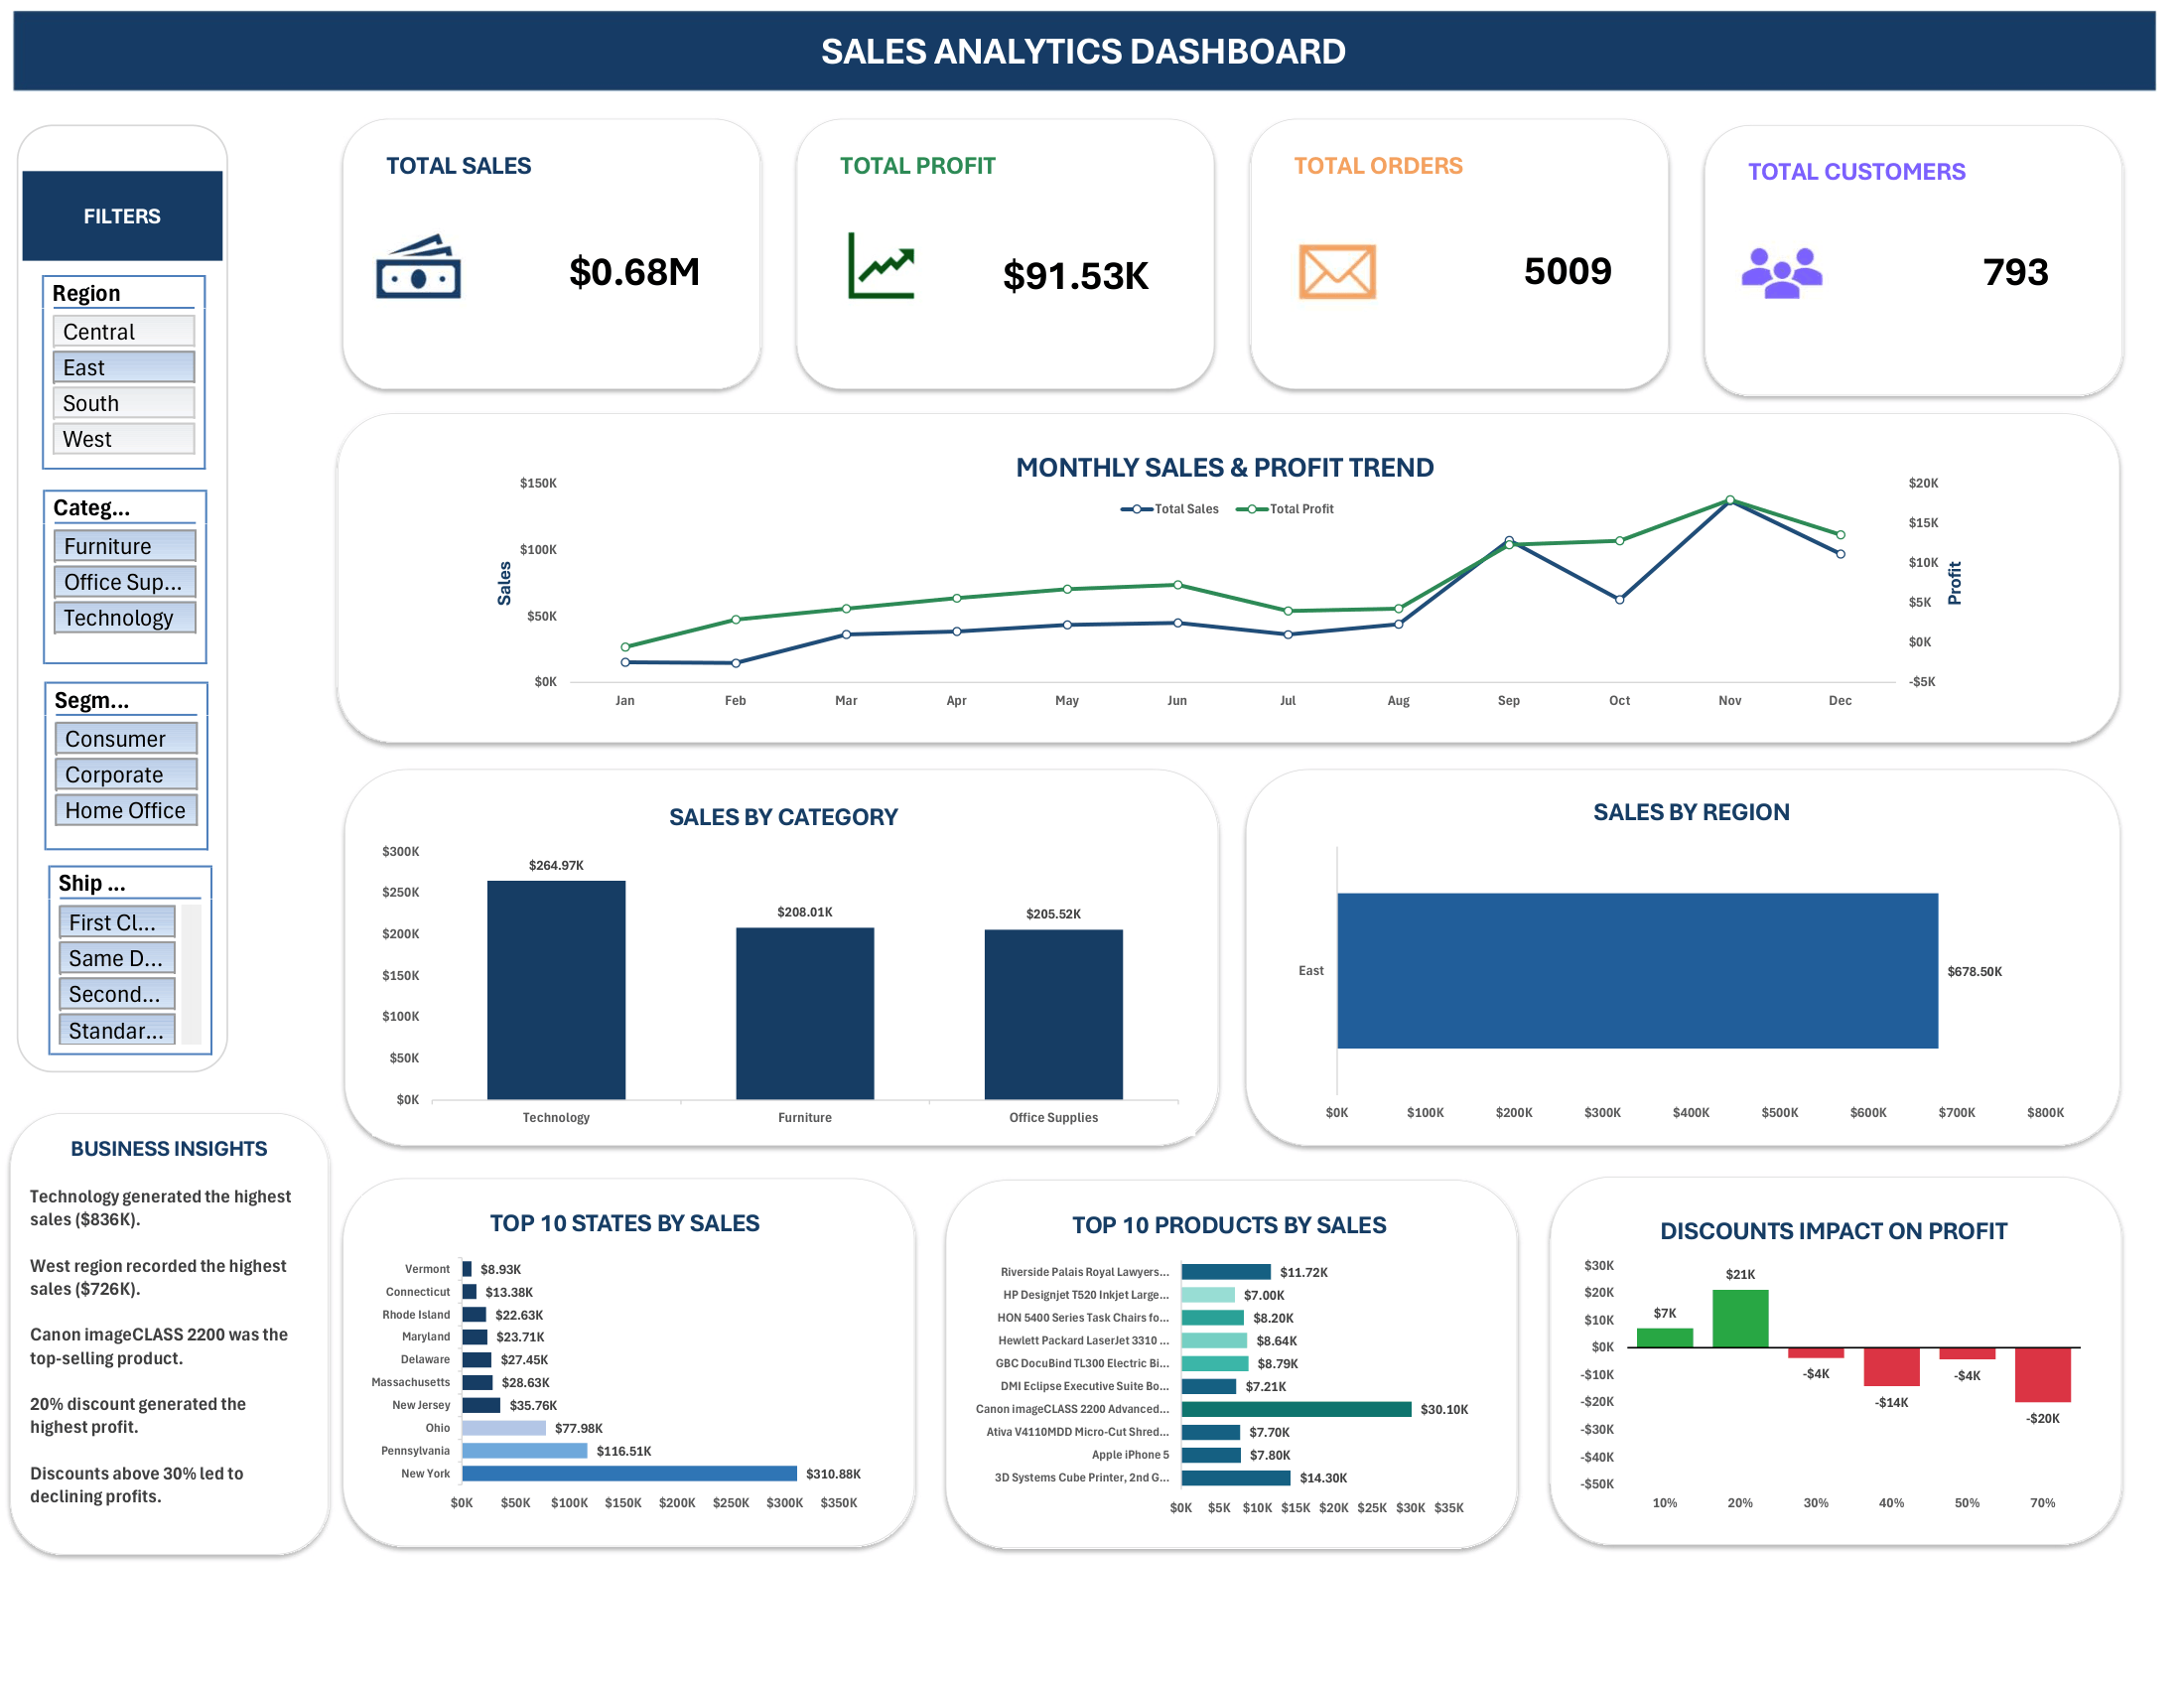

The dashboard page shown, as its layout file describes it:
{"tool":"powerbi","page":{"name":"Page 1","canvas":[1420,964],"ordinal":0},"visuals":[{"type":"shape","box":[0,0,1420.1,60.3],"z":0},{"type":"textbox","box":[447.7,0,627.1,60.3],"z":1000},{"type":"image","box":[395,6,52.8,46.7],"z":2000},{"type":"group","id":"g1","title":"Group 1","box":[186.9,60.3,1233.2,150.8],"z":3000},{"type":"shape","box":[803.5,214.1,616.6,223.1],"z":3000,"group":"g7"},{"type":"cardVisual","fields":{"Data":["sales_analytics superstore_staging.TOTAL SALES","sales_analytics superstore_staging.TOTAL PROFIT","sales_analytics superstore_staging.Orders Display","sales_analytics superstore_staging.TOTAL CUSTOMERS"]},"box":[186.9,60.3,1232.6,151.2],"z":4000,"group":"g1"},{"type":"shape","box":[186.9,214.1,612.1,223.1],"z":4000,"group":"g6"},{"type":"group","id":"g2","title":"Group 2","box":[1014.3,654,405.7,305.8],"z":4000},{"type":"image","box":[505.9,130.3,86.4,63.3],"z":5000,"group":"g1"},{"type":"group","id":"g3","title":"Group 3","box":[658.5,654,348.2,305.8],"z":5000},{"type":"image","box":[814.7,137.1,72,63.3],"z":6000,"group":"g1"},{"type":"clusteredColumnChart","title":"SALES BY CATEGORY","fields":{"Y":["Sum(sales_analytics superstore_staging.Sales)"],"Category":["sales_analytics superstore_staging.Category"]},"box":[194.4,217.1,595.5,215.6],"z":6000,"group":"g6"},{"type":"group","id":"g4","title":"Group 4","box":[304.3,652.5,343.6,305.8],"z":6000},{"type":"image","box":[1113,125.5,85.1,68.5],"z":7000,"group":"g1"},{"type":"clusteredBarChart","title":"SALES BY REGION","fields":{"Category":["sales_analytics superstore_staging.Region"],"Y":["Sum(sales_analytics superstore_staging.Sales)"]},"box":[809.5,217.1,606,215.6],"z":7000,"group":"g7"},{"type":"group","id":"g5","title":"Group 5","box":[186.2,437.5,1229.2,208.9],"z":7000},{"type":"image","box":[202.3,119.1,95.5,84],"z":8000,"group":"g1"},{"type":"group","id":"g6","title":"Group 6","box":[186.9,214.1,612.1,223.1],"z":8000},{"type":"shape","box":[186.2,437.5,1229.2,208.9],"z":8000,"group":"g5"},{"type":"group","id":"g7","title":"Group 7","box":[803.5,214.1,616.6,223.1],"z":9000},{"type":"lineChart","title":"MONTHLY SALES & PROFIT TRENDS","fields":{"Category":["sales_analytics superstore_staging.Month"],"Y":["sales_analytics superstore_staging.SALES VALUE"],"Y2":["sales_analytics superstore_staging.PROFIT VALUE"]},"box":[193.7,444.4,1211.1,196.8],"z":9000,"group":"g5"},{"type":"shape","box":[4.5,65.1,175.6,581.3],"z":10000},{"type":"shape","box":[304.3,652.5,343.6,305.8],"z":10000,"group":"g4"},{"type":"shape","box":[658.5,654,348.2,305.8],"z":11000,"group":"g3"},{"type":"shape","box":[4.5,655.5,290.7,304.3],"z":11000},{"type":"textbox","box":[14.4,78.4,158.5,51.2],"z":12000},{"type":"shape","box":[1014.3,654,405.7,305.8],"z":12000,"group":"g2"},{"type":"slicer","fields":{"Values":["sales_analytics superstore_staging.Region"]},"box":[11.2,140.8,163.3,76.8],"z":13000},{"type":"clusteredBarChart","title":"TOP 10 STATES BY SALES","fields":{"Category":["sales_analytics superstore_staging.State"],"Y":["Sum(sales_analytics superstore_staging.Sales)"]},"box":[312,655.5,325.9,298.2],"z":13000,"group":"g4"},{"type":"clusteredBarChart","title":"TOP 10 PRODUCTS BY SALES","fields":{"Y":["Sum(sales_analytics superstore_staging.Sales)"],"Category":["sales_analytics superstore_staging.Product_Name"]},"box":[665,658.5,330,296.7],"z":13002,"group":"g3"},{"type":"clusteredColumnChart","title":"IMPACT OF DISCOUNTS ON PROFIT","fields":{"Y":["Sum(sales_analytics superstore_staging.Profit)"],"Category":["sales_analytics superstore_staging.Discount Label"]},"box":[1018.8,658.5,393,296.7],"z":13003,"group":"g2"},{"type":"slicer","fields":{"Values":["sales_analytics superstore_staging.State"]},"box":[14.4,248.1,163.3,76.8],"z":14000},{"type":"slicer","fields":{"Values":["sales_analytics superstore_staging.Category"]},"box":[11.2,368.1,163.3,76.8],"z":15000},{"type":"slicer","fields":{"Values":["sales_analytics superstore_staging.Segment"]},"box":[14.4,465.8,163.3,76.8],"z":16000},{"type":"slicer","fields":{"Values":["sales_analytics superstore_staging.Ship_Mode"]},"box":[11.2,565,163.3,76.8],"z":17000},{"type":"textbox","box":[22.7,658.5,254.3,50],"z":18000},{"type":"textbox","box":[15.1,708.5,272.5,245.2],"z":19000}]}

Visuals, with their boxes on the page's 1420x964 design canvas (x1, y1, x2, y2). These are canvas units, not pixel positions in the 2184x1688 screenshot, which may show the page scaled, cropped or inside an application window:
shape: 0:0:1420:60
textbox: 448:0:1075:60
image: 395:6:448:53
"Group 1" group: 187:60:1420:211
shape: 804:214:1420:437
cardVisual - sales_analytics superstore_staging.TOTAL SALES x sales_analytics superstore_staging.TOTAL PROFIT: 187:60:1420:212
shape: 187:214:799:437
"Group 2" group: 1014:654:1420:960
image: 506:130:592:194
"Group 3" group: 658:654:1007:960
image: 815:137:887:200
"SALES BY CATEGORY" clusteredColumnChart: 194:217:790:433
"Group 4" group: 304:652:648:958
image: 1113:126:1198:194
"SALES BY REGION" clusteredBarChart: 810:217:1416:433
"Group 5" group: 186:438:1415:646
image: 202:119:298:203
"Group 6" group: 187:214:799:437
shape: 186:438:1415:646
"Group 7" group: 804:214:1420:437
"MONTHLY SALES & PROFIT TRENDS" lineChart: 194:444:1405:641
shape: 4:65:180:646
shape: 304:652:648:958
shape: 658:654:1007:960
shape: 4:656:295:960
textbox: 14:78:173:130
shape: 1014:654:1420:960
slicer - sales_analytics superstore_staging.Region: 11:141:174:218
"TOP 10 STATES BY SALES" clusteredBarChart: 312:656:638:954
"TOP 10 PRODUCTS BY SALES" clusteredBarChart: 665:658:995:955
"IMPACT OF DISCOUNTS ON PROFIT" clusteredColumnChart: 1019:658:1412:955
slicer - sales_analytics superstore_staging.State: 14:248:178:325
slicer - sales_analytics superstore_staging.Category: 11:368:174:445
slicer - sales_analytics superstore_staging.Segment: 14:466:178:543
slicer - sales_analytics superstore_staging.Ship_Mode: 11:565:174:642
textbox: 23:658:277:708
textbox: 15:708:288:954
